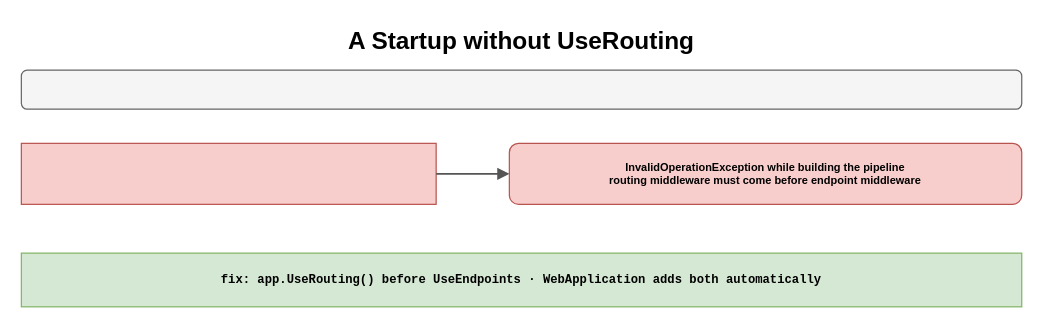
The diagram is 1043 pixels wide and 328 high, and some of its shapes have lost their labels. Here are the shapes that lost their labels. From the top down, the centre of each, then its label:
At pixel 521 89: "The pipeline fails to build before any request".
At pixel 228 173: "Configure: UseEndpoints(...) no UseRouting".
